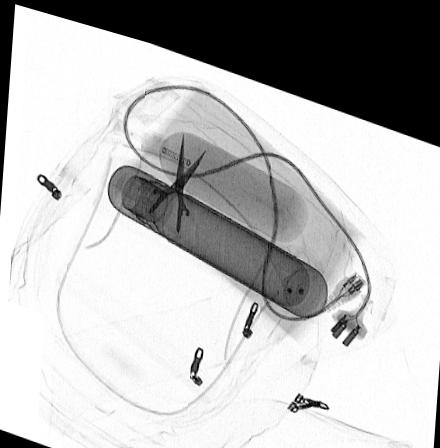Scissors: (135, 119, 207, 234)
